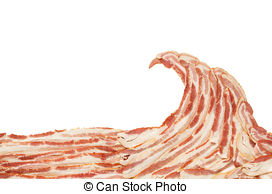bacon: (135, 45, 250, 166), (16, 136, 132, 176)
